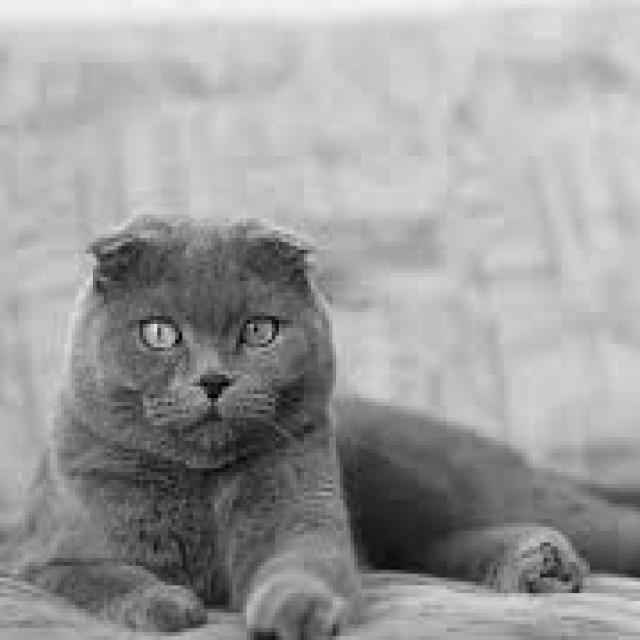scootish: (73, 208, 344, 472)
